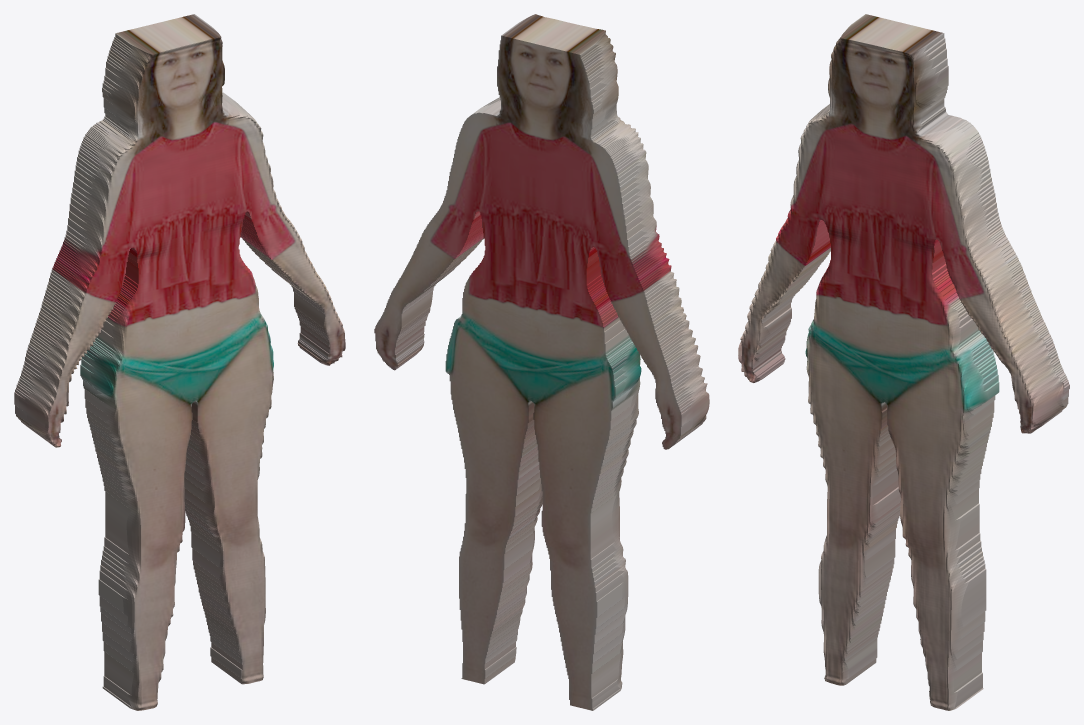
The model's file is avatar_192648.glb.
The picture shows the model from 3 angles, left to right: view 1: azimuth 30°, elevation 25°; view 2: azimuth 150°, elevation 25°; view 3: azimuth 330°, elevation 25°; orthographic projection.
Parts seen in each view (by area): view 1: world; view 2: world; view 3: world.
Boxes of the visible parts, x1=… form: world: x1=14, y1=14, x2=345, y2=710; world: x1=374, y1=14, x2=709, y2=710; world: x1=738, y1=14, x2=1069, y2=710.
Size of the model in its own units: 70.49 by 143 by 13.45.
